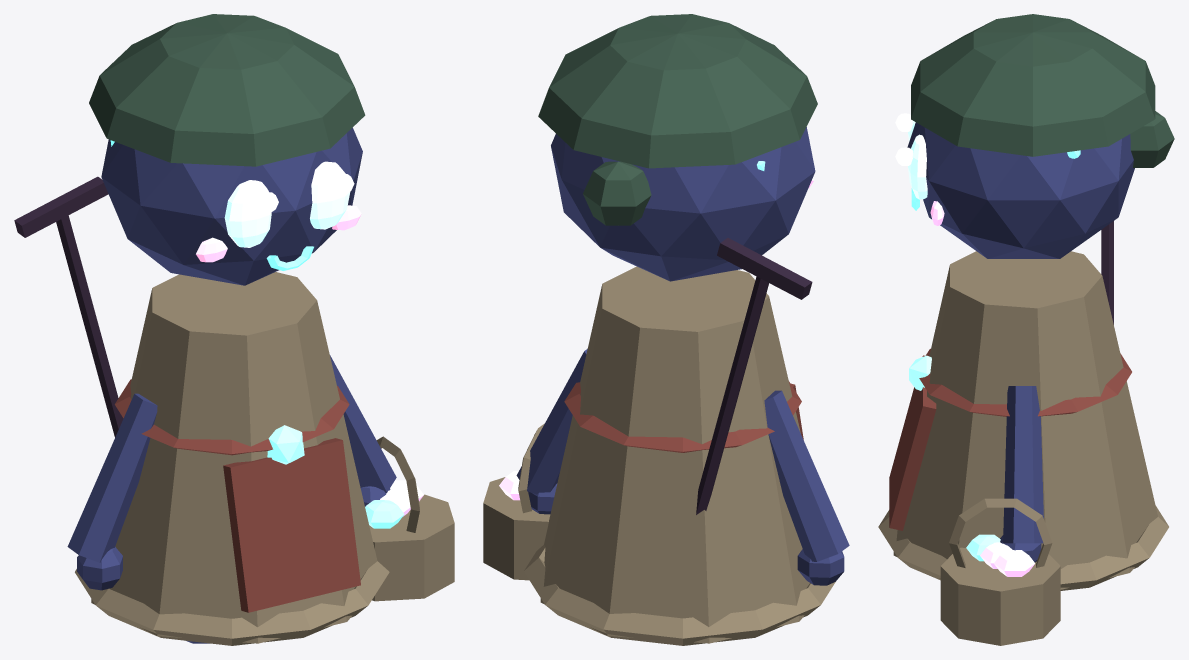
Rendered from jardiniere_modele.glb.
3 renders of one model, left to right at view 1: azimuth 30°, elevation 25°; view 2: azimuth 150°, elevation 25°; view 3: azimuth 270°, elevation 25°, orthographic. The views are drawn at different scales.
Parts seen in each view (by area): view 1: Robe_Jardiniere, L24.001, Crane_Jardiniere, Tablier_Jardiniere, P4.004, Panier_Jardiniere, P8.004, P32, P6.004, P23.005, P14.004, P33 (+5 smaller); view 2: Robe_Jardiniere, L24.001, Crane_Jardiniere, P4.004, P8.004, Panier_Jardiniere, P32, P26.004, P6.004, P23.005, P33, P9.004 (+2 smaller); view 3: Robe_Jardiniere, L24.001, Crane_Jardiniere, Panier_Jardiniere, P6.004, P4.004, Tablier_Jardiniere, P23.005, P28.003, P26.004, P11.004, P32 (+4 smaller).
Boxes of the visible parts, box(x1,y1,x2,y2) form: Robe_Jardiniere: box(91, 272, 377, 643); L24.001: box(89, 14, 365, 166); Crane_Jardiniere: box(101, 127, 362, 285); Tablier_Jardiniere: box(223, 438, 360, 612); P4.004: box(75, 561, 389, 645); Panier_Jardiniere: box(369, 494, 454, 601); P8.004: box(67, 393, 157, 562); P32: box(56, 215, 123, 437); P6.004: box(330, 355, 396, 492); P23.005: box(115, 379, 349, 455); P14.004: box(224, 180, 271, 247); P33: box(14, 176, 108, 237); Robe_Jardiniere: box(540, 266, 809, 643); L24.001: box(538, 14, 817, 168); Crane_Jardiniere: box(551, 127, 815, 281); P4.004: box(524, 545, 835, 645); P8.004: box(764, 390, 849, 561); Panier_Jardiniere: box(483, 477, 550, 580); P32: box(696, 276, 768, 514); P26.004: box(583, 161, 651, 225); P6.004: box(516, 349, 587, 494); P23.005: box(564, 381, 801, 452); P33: box(717, 238, 812, 299); P9.004: box(797, 549, 844, 585); Robe_Jardiniere: box(893, 251, 1157, 589); L24.001: box(911, 14, 1155, 156); Crane_Jardiniere: box(907, 122, 1134, 258); Panier_Jardiniere: box(940, 547, 1060, 645); P6.004: box(1003, 386, 1043, 543); P4.004: box(878, 505, 1168, 590); Tablier_Jardiniere: box(889, 355, 936, 530); P23.005: box(919, 348, 1131, 416); P28.003: box(949, 498, 1052, 567); P26.004: box(1130, 111, 1174, 167); P11.004: box(908, 134, 927, 199); P32: box(1101, 221, 1113, 324).
Bounding box in the file's own units: 0.9465 × 1.41 × 0.7057.
